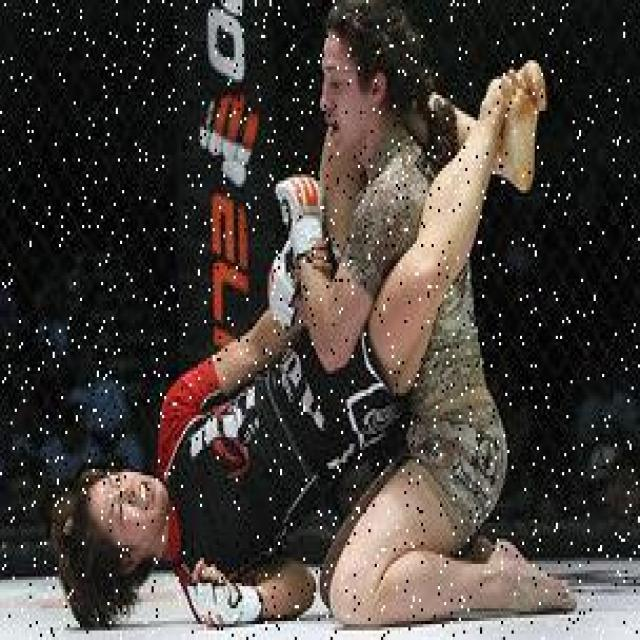fall: (65, 178, 413, 618)
